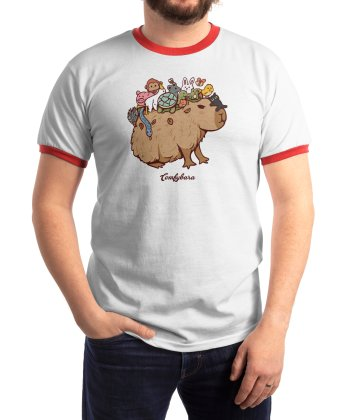design: (124, 74, 229, 184)
